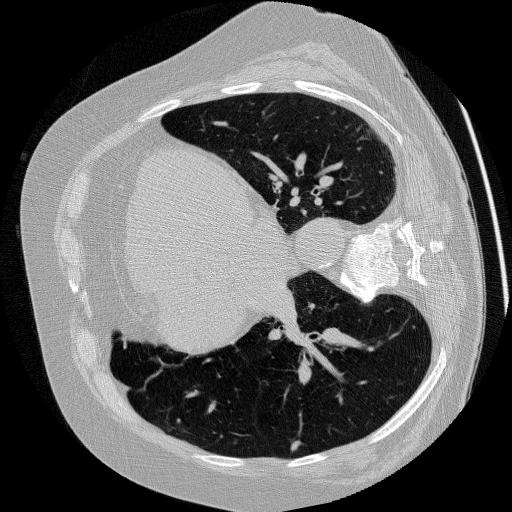nodule: (288, 439, 303, 454)
